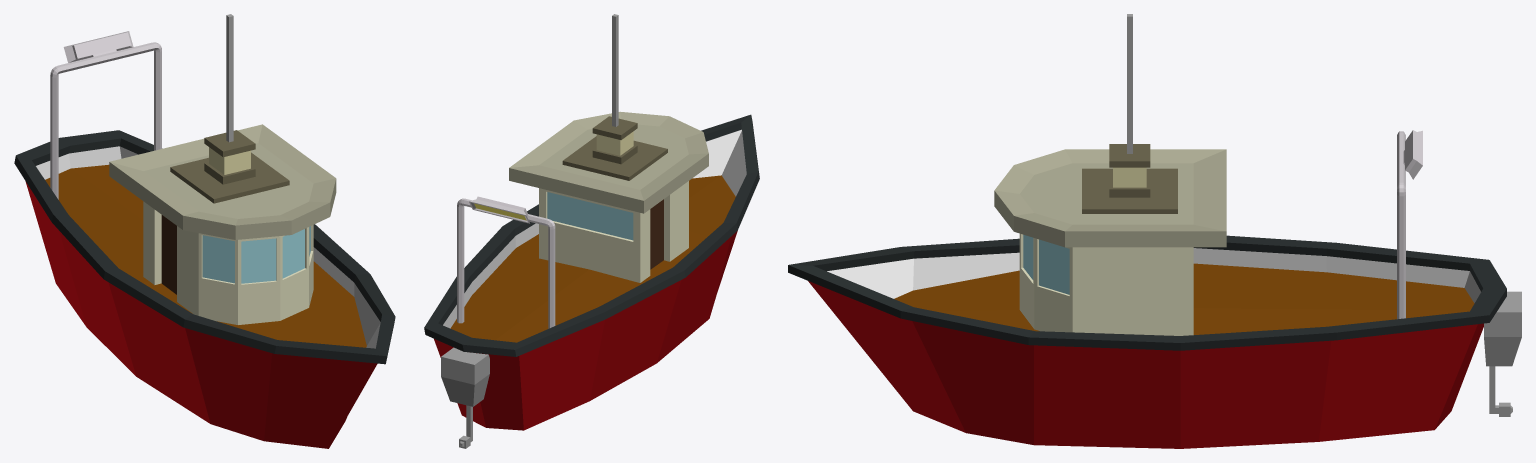
The model's file is Boat.fbx.
3 views of the same model, side by side, from view 1: azimuth 30°, elevation 25°; view 2: azimuth 150°, elevation 25°; view 3: azimuth 270°, elevation 25° (orthographic). The views are drawn at different scales.
Parts seen in each view (by area): view 1: Cube, Cylinder, Cube.001, Cube.002, Cylinder.001; view 2: Cube, Cylinder, Cube.001, Cube.002, Cylinder.001, Cube.003; view 3: Cube, Cylinder, Cube.001, Cube.002, Cube.003, Cylinder.001.
Boxes of the visible parts, x1=… form: Cube: x1=25, y1=146, x2=380, y2=448; Cylinder: x1=109, y1=124, x2=336, y2=324; Cube.001: x1=14, y1=130, x2=395, y2=364; Cube.002: x1=170, y1=14, x2=289, y2=203; Cylinder.001: x1=50, y1=31, x2=161, y2=199; Cube: x1=434, y1=129, x2=746, y2=430; Cylinder: x1=509, y1=111, x2=708, y2=282; Cube.001: x1=424, y1=114, x2=759, y2=356; Cube.002: x1=562, y1=14, x2=667, y2=180; Cylinder.001: x1=457, y1=196, x2=555, y2=328; Cube.003: x1=441, y1=347, x2=489, y2=448; Cube: x1=808, y1=248, x2=1483, y2=448; Cylinder: x1=994, y1=149, x2=1226, y2=335; Cube.001: x1=788, y1=235, x2=1506, y2=350; Cube.002: x1=1082, y1=14, x2=1177, y2=213; Cube.003: x1=1484, y1=291, x2=1521, y2=416; Cylinder.001: x1=1397, y1=130, x2=1422, y2=319.
Size of the model in its own units: 209 by 349 by 582.
